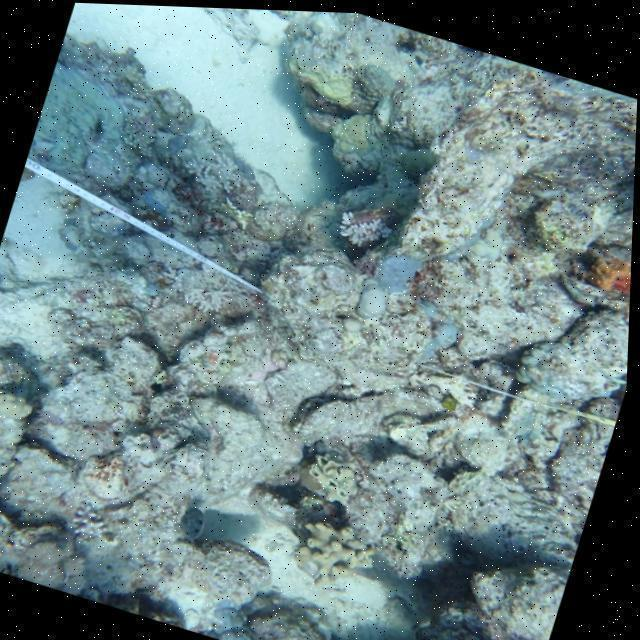Bleached Coral: (64, 502, 132, 554), (337, 203, 407, 245)
